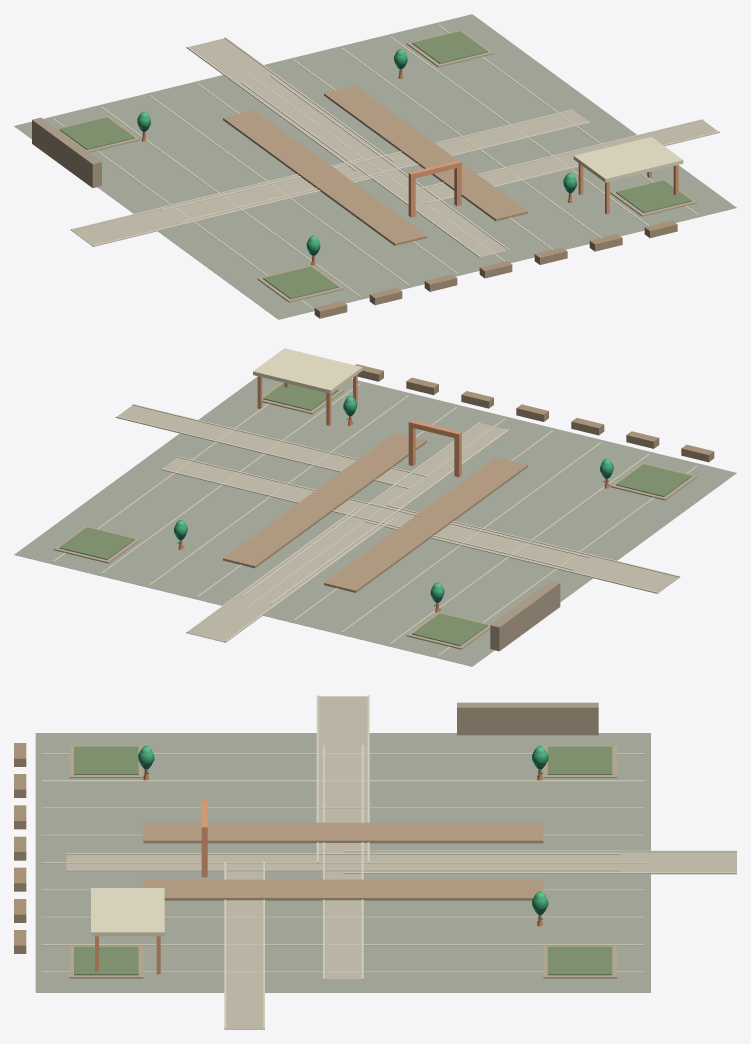
Rendered from gardens-2-6.glb.
3 views of the same model, one above another, from view 1: azimuth 30°, elevation 25°; view 2: azimuth 150°, elevation 25°; view 3: azimuth 270°, elevation 25° (orthographic). The views are drawn at different scales.
Visible parts, largest first — view 1: gardens-2-6; view 2: gardens-2-6; view 3: gardens-2-6.
Boxes of the visible parts, <box> form: gardens-2-6: <box>14,14,736,319</box>; gardens-2-6: <box>14,348,736,666</box>; gardens-2-6: <box>14,695,736,1029</box>.
Size of the model in its own units: 256 by 18 by 235.
15 materials, 4 textured.
